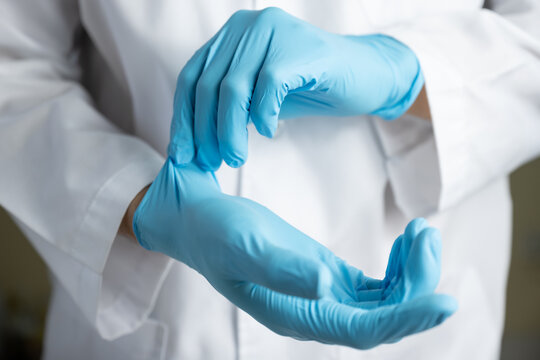Gloves: (143, 180, 462, 349), (161, 5, 438, 173)
